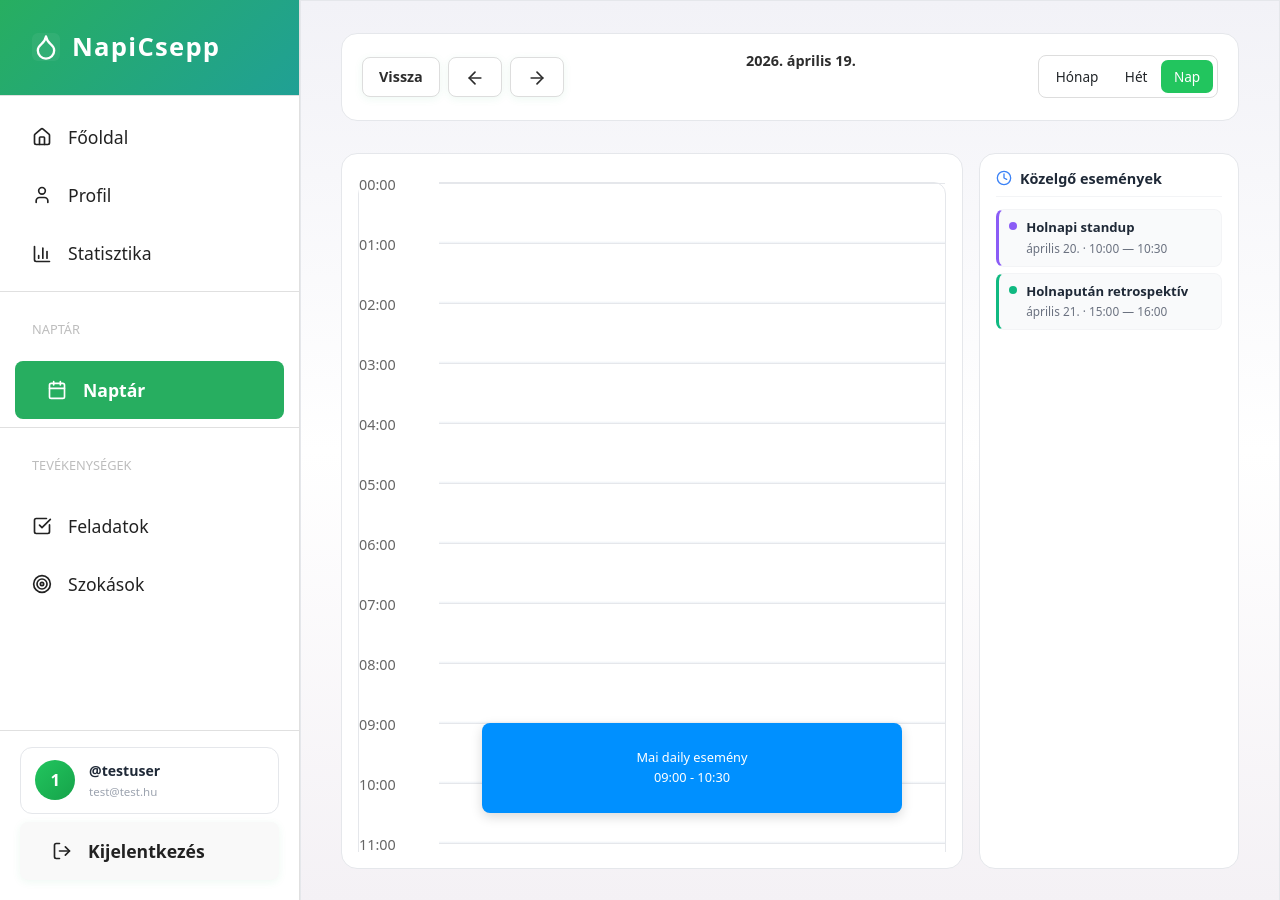
Test: Daily View — Esemény blokk megjelenés › 6 - Esemény blokkra kattintás megnyitja a mini popupot
Step 1. Click the element with class "event-block-daily" → coordinates (692, 768), box [482,723,902,813]
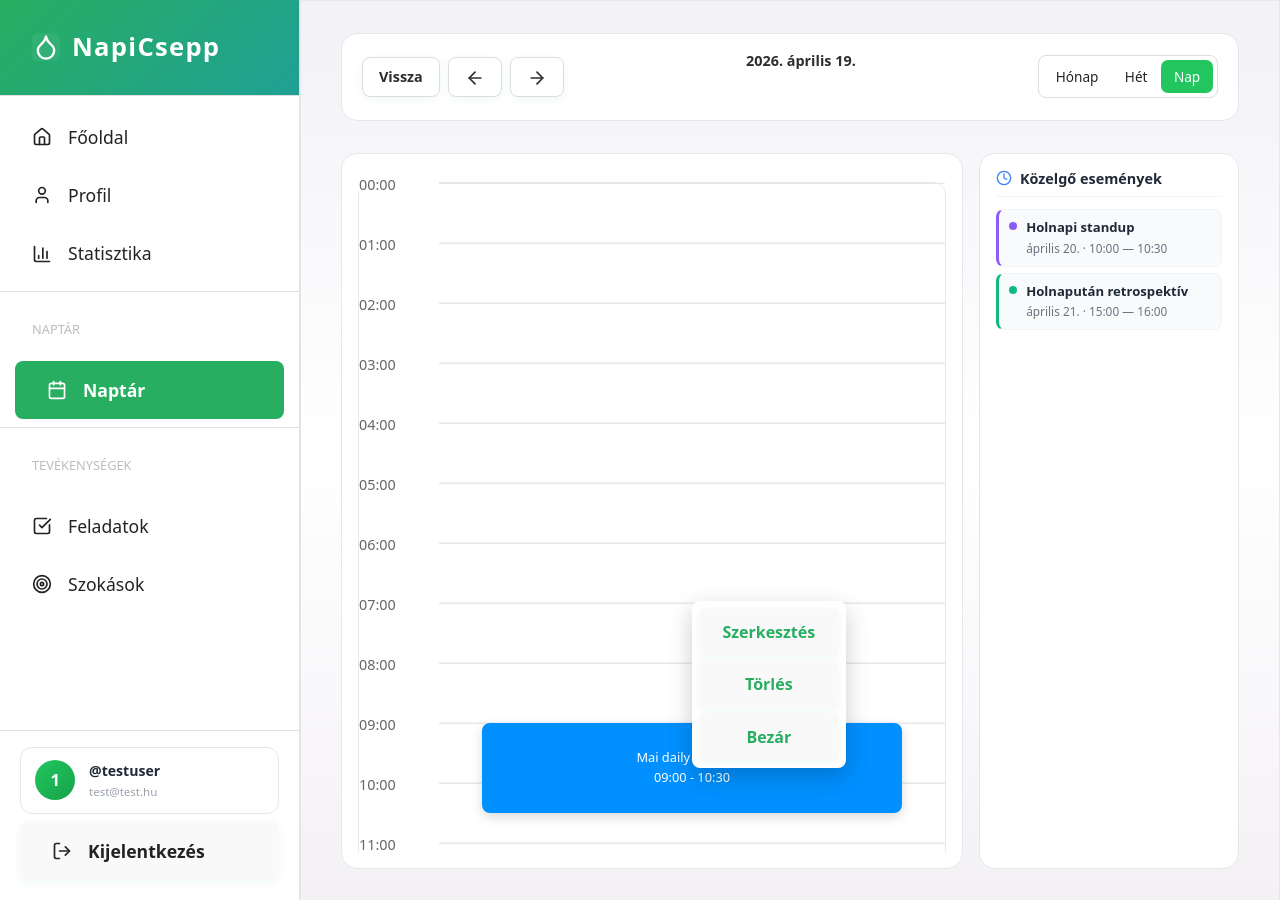
Now the element with class "mini-popup" is shown, box [692,601,846,768]
